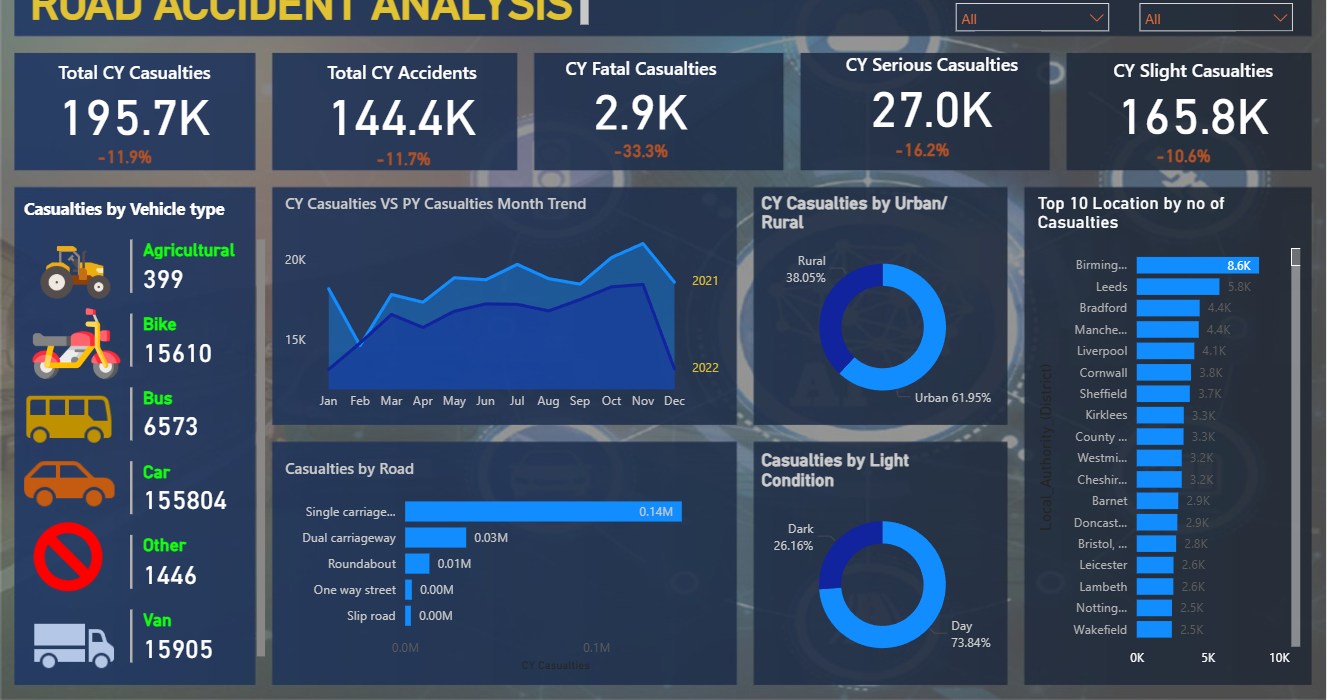

The page's visual inventory and layout, read from the dashboard file:
{"tool":"powerbi","page":{"name":"Page 1","canvas":[1280,720],"ordinal":0},"visuals":[{"type":"card","title":" CY Serious Casualties","fields":{"Values":["Data.CY Casualties"]},"box":[794,92.2,211.3,78.2],"z":0,"group":"g4"},{"type":"card","title":" CY Fatal Casualties","fields":{"Values":["Data.CY Casualties"]},"box":[523.2,95,190,76.6],"z":0,"group":"g3"},{"type":"card","title":" CY Slight Casualties","fields":{"Values":["Data.CY Casualties"]},"box":[1046.3,97.8,211.3,78.2],"z":0,"group":"g5"},{"type":"group","id":"g1","title":"Group 1","box":[24.7,98.8,211.3,112.8],"z":0},{"type":"card","title":"Total CY Casualties","fields":{"Values":["Data.CY Casualties"]},"box":[24.7,98.8,211.3,78.2],"z":0,"group":"g1"},{"type":"card","title":"Total CY Accidents","fields":{"Values":["Data.CY Accident Count"]},"box":[282.7,98.8,211.3,78.2],"z":0,"group":"g2"},{"type":"group","id":"g2","title":"Group 1","box":[282.7,98.8,211.3,114.2],"z":1000},{"type":"card","fields":{"Values":["Data.YoY Casualties"]},"box":[837,169.3,105.7,35.7],"z":1000,"group":"g4"},{"type":"card","fields":{"Values":["Data.YoY Casualties"]},"box":[571.2,171.6,93.6,34],"z":1000,"group":"g3"},{"type":"card","fields":{"Values":["Data.YoY Casualties"]},"box":[1089.3,174.9,105.7,35.7],"z":1000,"group":"g5"},{"type":"card","fields":{"Values":["Data.YoY Casualties"]},"box":[67.7,175.9,105.7,35.7],"z":1000,"group":"g1"},{"type":"card","fields":{"Values":["Data.YoY Accidents"]},"box":[336.7,177.3,105.7,35.7],"z":1000,"group":"g2"},{"type":"group","id":"g3","title":"Group 1","box":[523.2,95,190,110.6],"z":2000},{"type":"group","id":"g4","title":"Group 1","box":[794,92.2,212.7,112],"z":3000},{"type":"group","id":"g5","title":"Group 1","box":[1046.3,97.8,212.7,112],"z":4000},{"type":"textbox","box":[24.1,15.6,548.7,56.7],"z":5000},{"type":"multiRowCard","fields":{"Values":["Data.Vehicle_Type (groups)","Data.CY Casualties"]},"box":[120.5,268,140.4,426.8],"z":6000},{"type":"image","box":[0,268,146,72.3],"z":7000},{"type":"image","box":[36.2,289.5,84.5,166.5],"z":8000},{"type":"image","box":[21.3,398.4,89.3,95],"z":9000},{"type":"image","box":[19.8,456.5,95,104.9],"z":10000},{"type":"image","box":[18.4,537.4,95,83.7],"z":11000},{"type":"image","box":[0,622.4,143.2,83.7],"z":12000},{"type":"textbox","box":[18.4,226.9,242.4,41.1],"z":13000},{"type":"areaChart","title":" CY Casualties VS PY Casualties Month Trend","fields":{"Category":["Calendar.Month"],"Y":["Sum(Data.Number_of_Casualties)"],"Series":["Calendar.Date.Variation.Date Hierarchy.Year"]},"box":[270.2,226.8,431.9,219.6],"z":14000},{"type":"donutChart","title":"CY Casualties by Urban/ Rural","fields":{"Category":["Data.Urban_or_Rural_Area"],"Y":["Data.CY Casualties"]},"box":[730,226.4,244.3,219.6],"z":15000},{"type":"donutChart","title":" Casualties by Light Condition","fields":{"Y":["Data.CY Casualties"],"Category":["Data.Light_Conditions (groups)"]},"box":[730.2,475,243.9,219.8],"z":16000},{"type":"barChart","title":"Casualties by Road","fields":{"Category":["Data.Road_Type"],"Y":["Data.CY Casualties"]},"box":[270.8,482.1,431,212.7],"z":17000},{"type":"slicer","fields":{"Values":["Data.Weather_Conditions (groups)"]},"box":[1089.5,15.1,168.8,56.3],"z":18000},{"type":"slicer","fields":{"Values":["Data.Road_Surface_Conditions (groups)"]},"box":[912.5,15.1,168.8,56.3],"z":19000},{"type":"barChart","title":"Top 10 Location by no of Casualties","fields":{"Category":["Data.Local_Authority_(District)"],"Y":["Sum(Data.Number_of_Casualties)"]},"box":[994.1,226.8,263,468.1],"z":20000}]}

Visuals, with their boxes on the page's 1280x720 design canvas (x1, y1, x2, y2). These are canvas units, not pixel positions in the 1327x700 screenshot, which may show the page scaled, cropped or inside an application window:
" CY Serious Casualties" card: Rect(794, 92, 1005, 170)
" CY Fatal Casualties" card: Rect(523, 95, 713, 172)
" CY Slight Casualties" card: Rect(1046, 98, 1258, 176)
"Group 1" group: Rect(25, 99, 236, 212)
"Total CY Casualties" card: Rect(25, 99, 236, 177)
"Total CY Accidents" card: Rect(283, 99, 494, 177)
"Group 1" group: Rect(283, 99, 494, 213)
card - Data.YoY Casualties: Rect(837, 169, 943, 205)
card - Data.YoY Casualties: Rect(571, 172, 665, 206)
card - Data.YoY Casualties: Rect(1089, 175, 1195, 211)
card - Data.YoY Casualties: Rect(68, 176, 173, 212)
card - Data.YoY Accidents: Rect(337, 177, 442, 213)
"Group 1" group: Rect(523, 95, 713, 206)
"Group 1" group: Rect(794, 92, 1007, 204)
"Group 1" group: Rect(1046, 98, 1259, 210)
textbox: Rect(24, 16, 573, 72)
multiRowCard - Data.Vehicle_Type (groups) x Data.CY Casualties: Rect(120, 268, 261, 695)
image: Rect(0, 268, 146, 340)
image: Rect(36, 290, 121, 456)
image: Rect(21, 398, 111, 493)
image: Rect(20, 456, 115, 561)
image: Rect(18, 537, 113, 621)
image: Rect(0, 622, 143, 706)
textbox: Rect(18, 227, 261, 268)
" CY Casualties VS PY Casualties Month Trend" areaChart: Rect(270, 227, 702, 446)
"CY Casualties by Urban/ Rural" donutChart: Rect(730, 226, 974, 446)
" Casualties by Light Condition" donutChart: Rect(730, 475, 974, 695)
"Casualties by Road" barChart: Rect(271, 482, 702, 695)
slicer - Data.Weather_Conditions (groups): Rect(1090, 15, 1258, 71)
slicer - Data.Road_Surface_Conditions (groups): Rect(912, 15, 1081, 71)
"Top 10 Location by no of Casualties" barChart: Rect(994, 227, 1257, 695)
